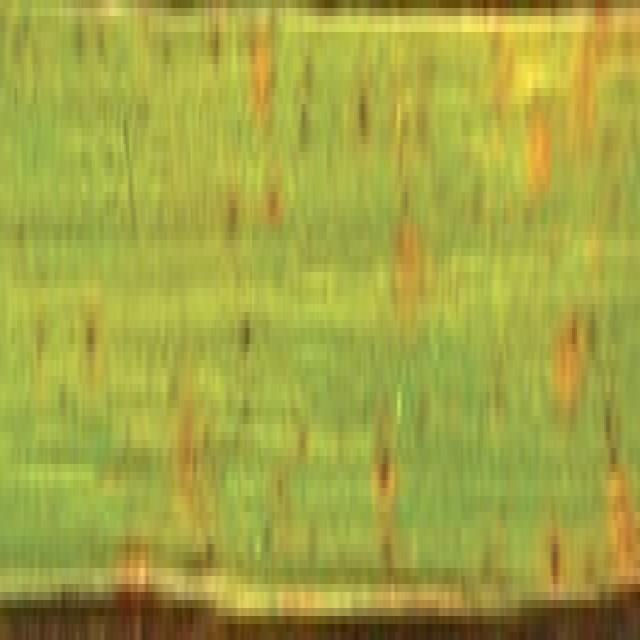Leafsmut: (551, 316, 583, 418), (248, 24, 274, 117), (525, 116, 553, 196), (529, 290, 577, 316), (376, 449, 392, 492), (265, 187, 284, 223), (27, 342, 64, 360), (296, 420, 311, 464), (549, 531, 561, 582), (84, 318, 98, 360), (357, 89, 370, 134), (225, 197, 240, 235), (580, 299, 608, 318), (134, 558, 150, 590), (15, 219, 27, 253), (418, 386, 444, 400), (166, 239, 196, 250), (138, 298, 151, 320), (531, 353, 546, 372), (406, 342, 418, 364), (93, 300, 104, 322), (527, 346, 537, 368), (15, 426, 27, 444), (392, 305, 406, 320), (113, 365, 123, 386), (16, 315, 27, 334), (249, 246, 266, 258), (0, 398, 8, 423), (541, 294, 553, 310), (126, 236, 142, 248), (50, 226, 66, 238), (535, 295, 546, 311), (55, 232, 66, 248), (44, 440, 56, 454), (373, 358, 383, 373), (156, 397, 166, 410), (346, 357, 355, 371), (327, 362, 336, 376), (457, 280, 468, 291), (281, 287, 290, 300), (492, 324, 500, 336), (181, 270, 189, 282), (106, 416, 114, 428), (252, 338, 259, 351), (426, 352, 435, 362), (428, 358, 436, 368), (504, 327, 511, 337), (526, 338, 532, 348), (432, 285, 438, 294), (312, 284, 318, 291)
